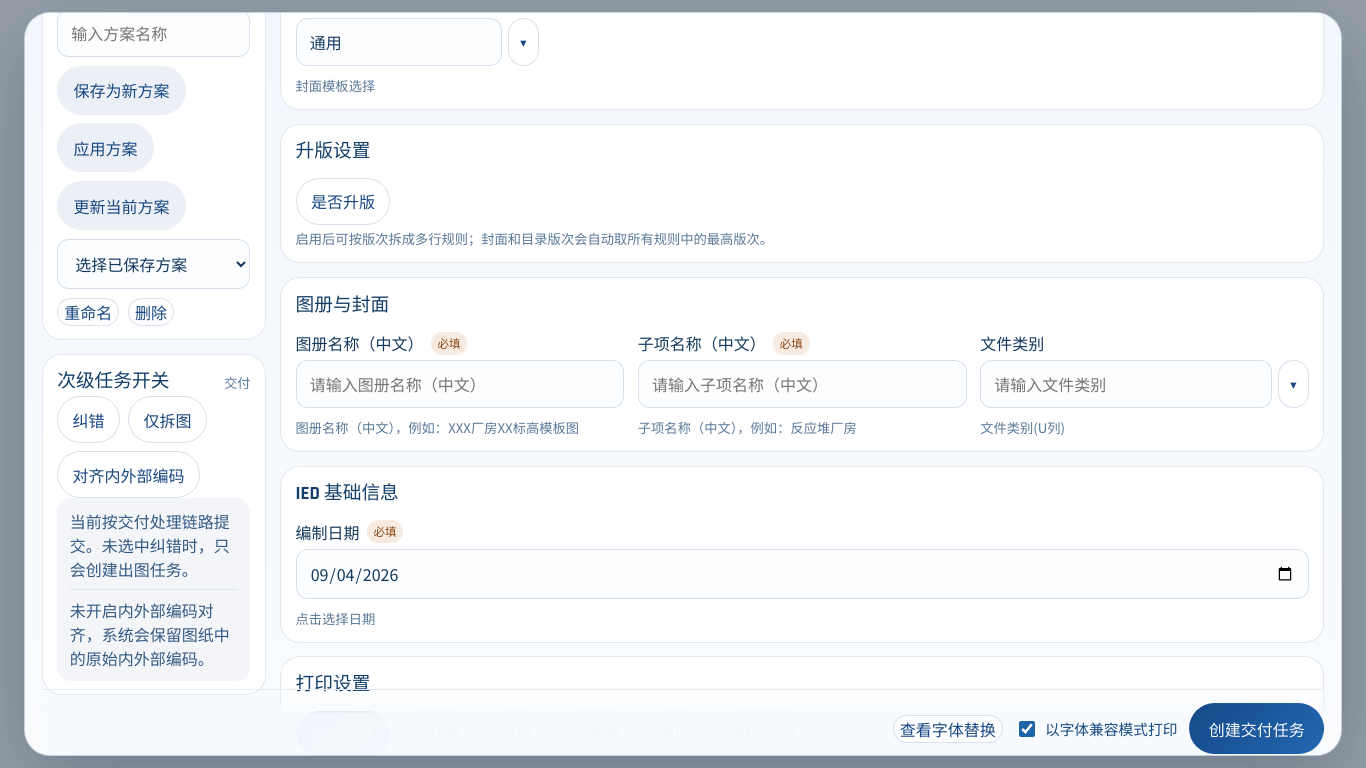
Test: DeliverableWorkspace › shows an update notice after updating the current preset and clears it on further edits
The image size is (1366, 768).
(page scrolled)
Type "方案图册" into the field labelled "图册名称（中文）" at (460, 384), box [296,360,624,408]
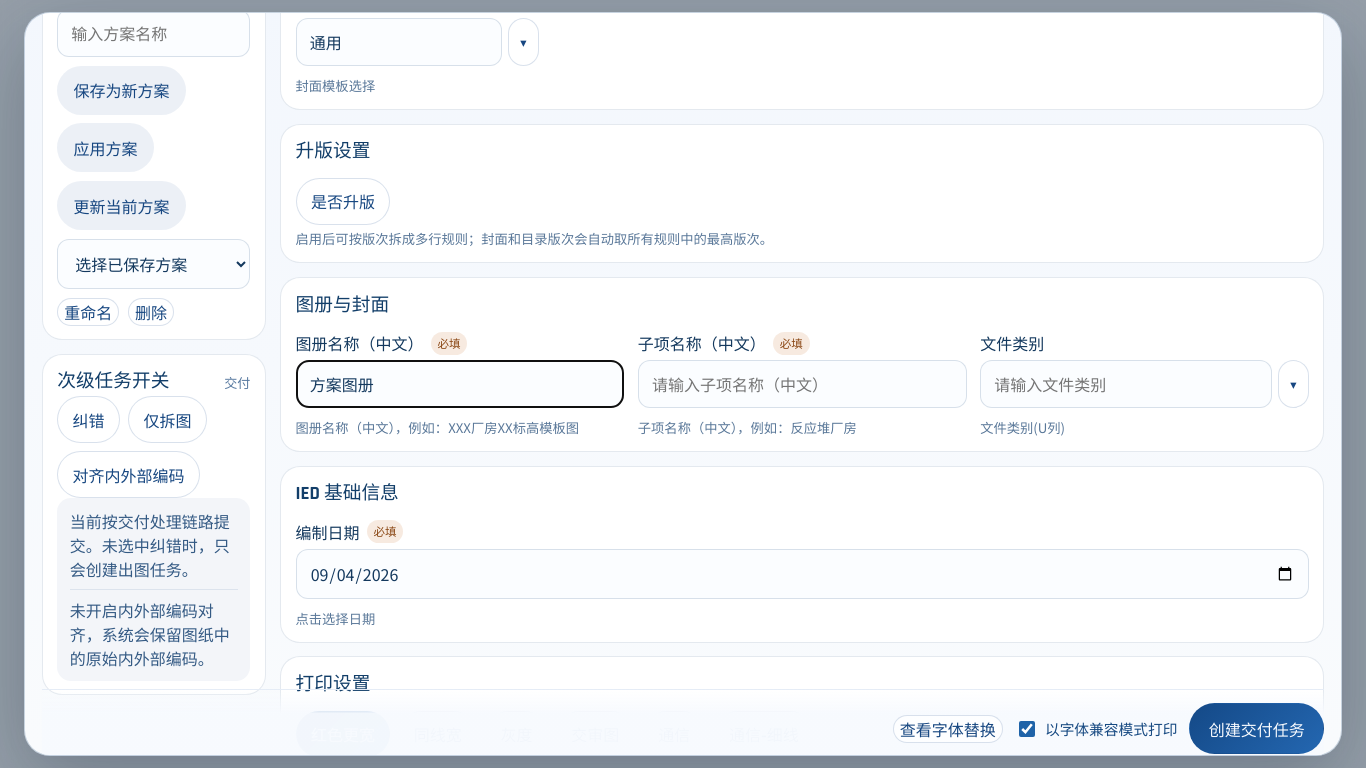
Type "反应堆厂房" into the field labelled "子项名称（中文）" at (802, 384), box [638,360,966,408]
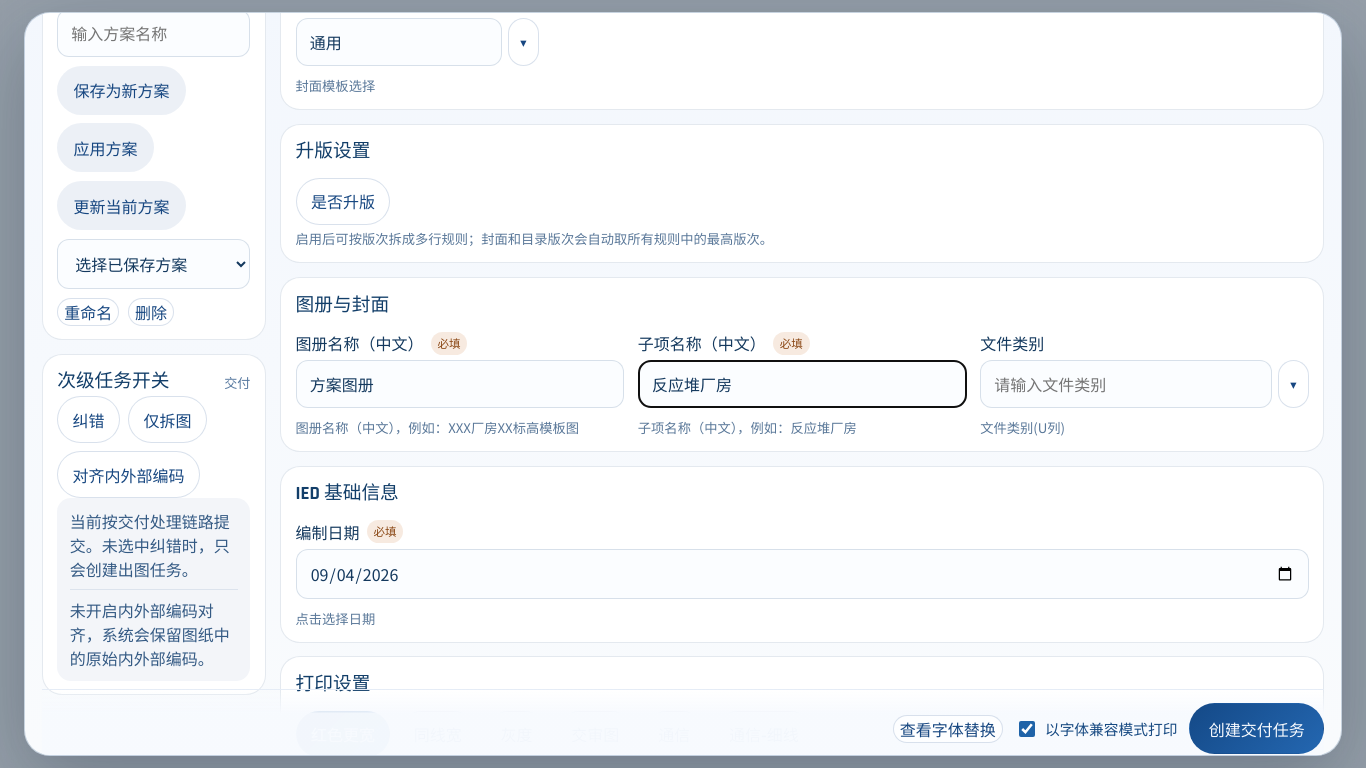
Type "1818-2" into the field labelled "方案名称" at (154, 33), box [57,9,250,57]
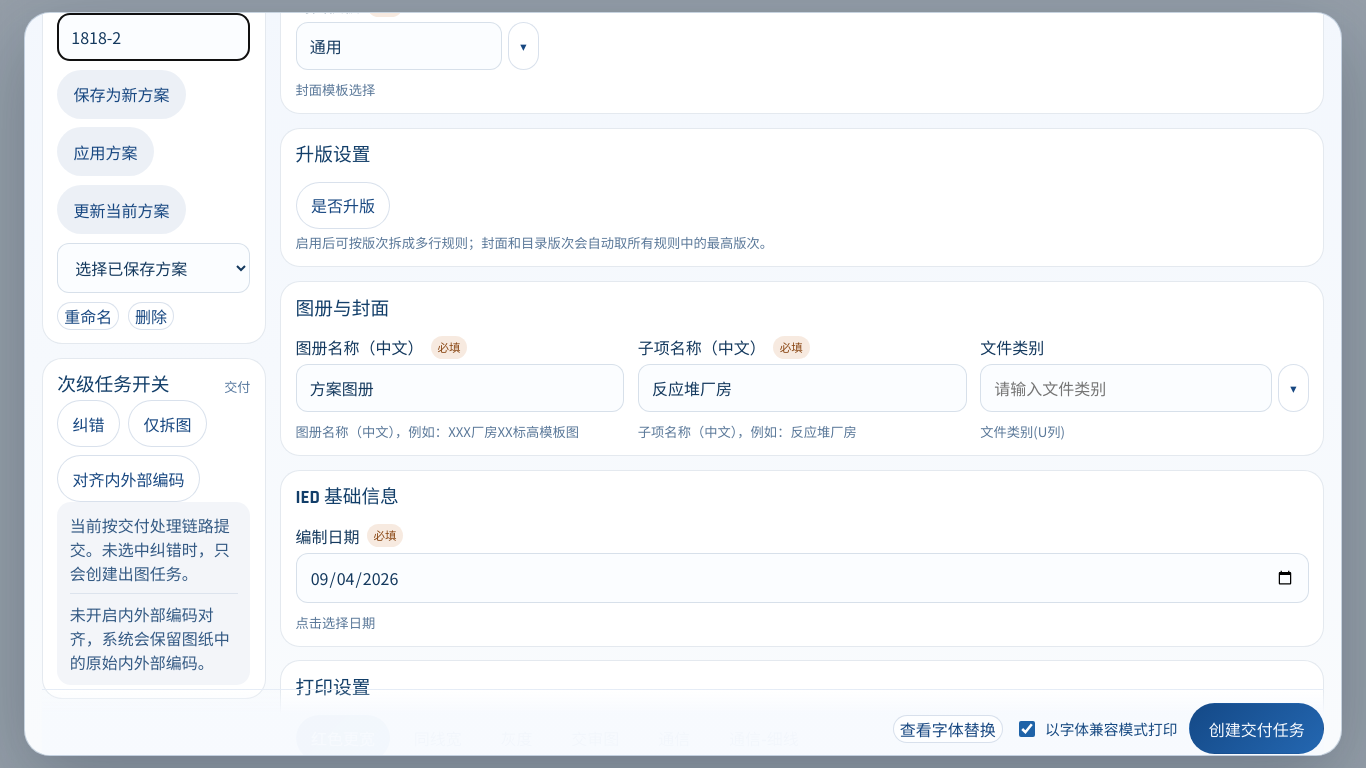
Click the button "保存为新方案" at (121, 94), box [57,70,186,118]
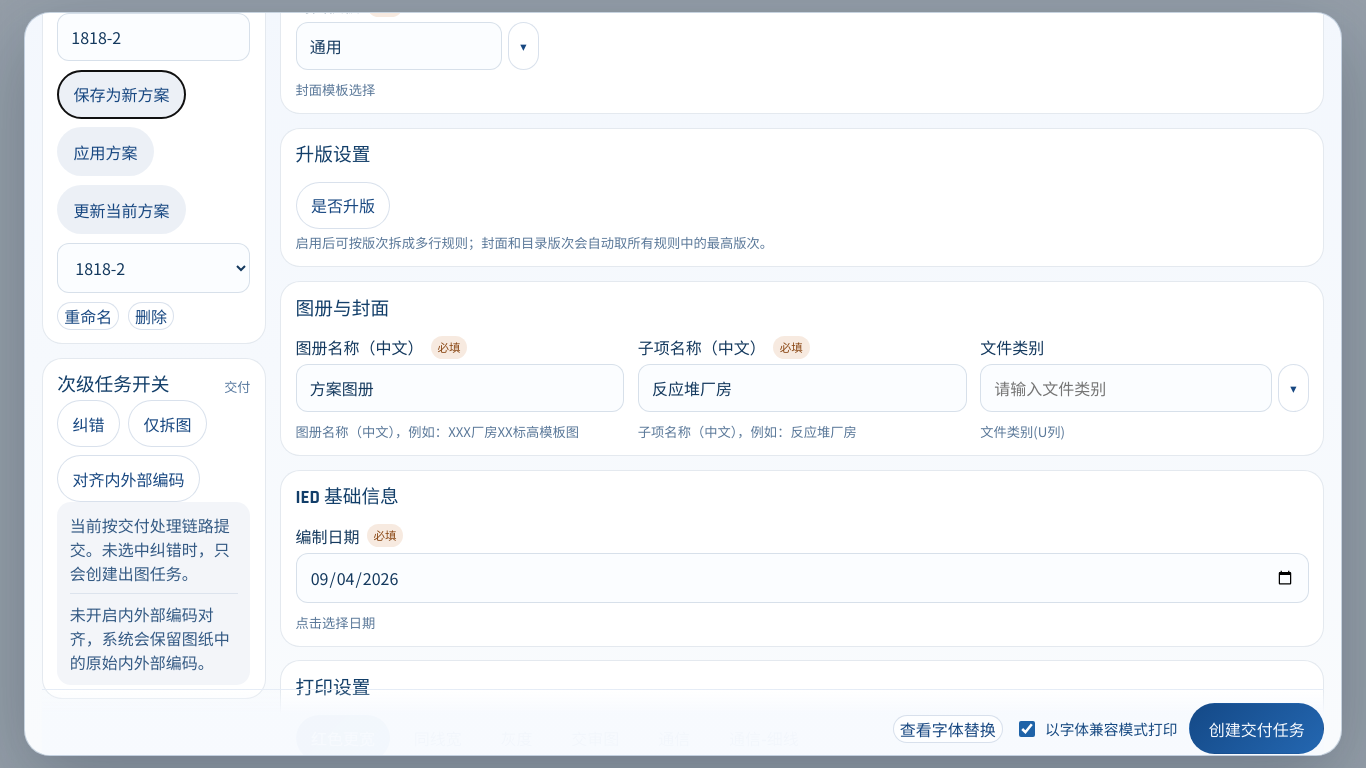
Click the button "更新当前方案" at (121, 210), box [57,185,186,234]
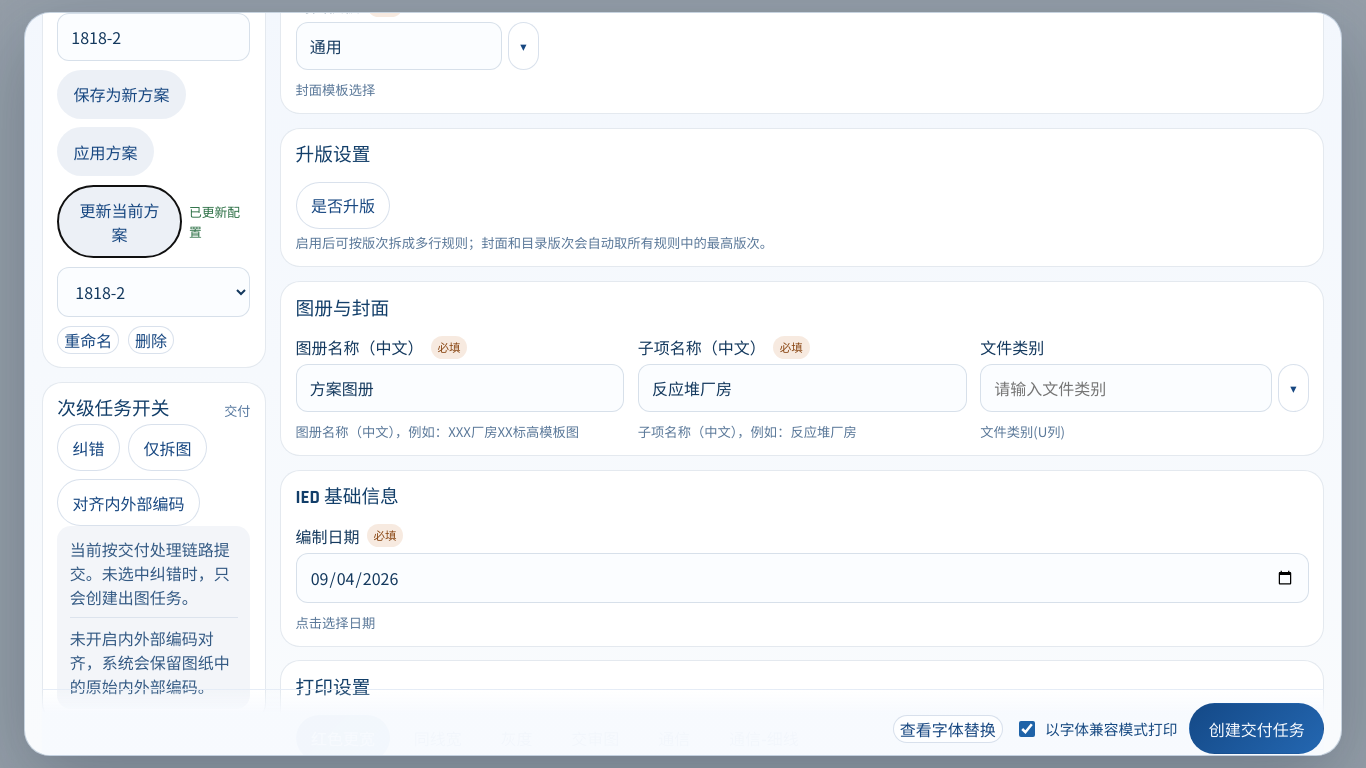
Result: the text "已更新配置" is shown at [189,202,240,241]
Type "A" into the field named "方案名称" at (154, 37), box [57,13,250,61]
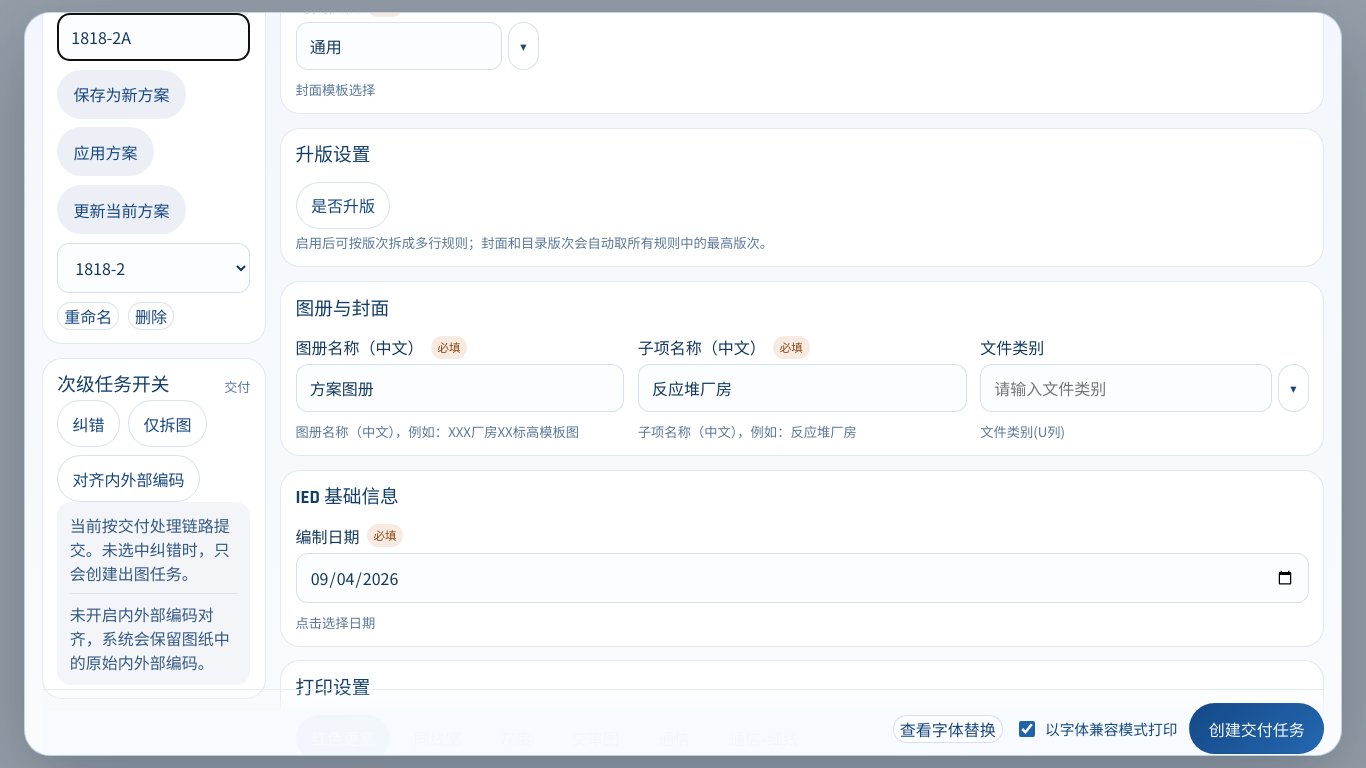
Result: the text "已更新配置" is gone
